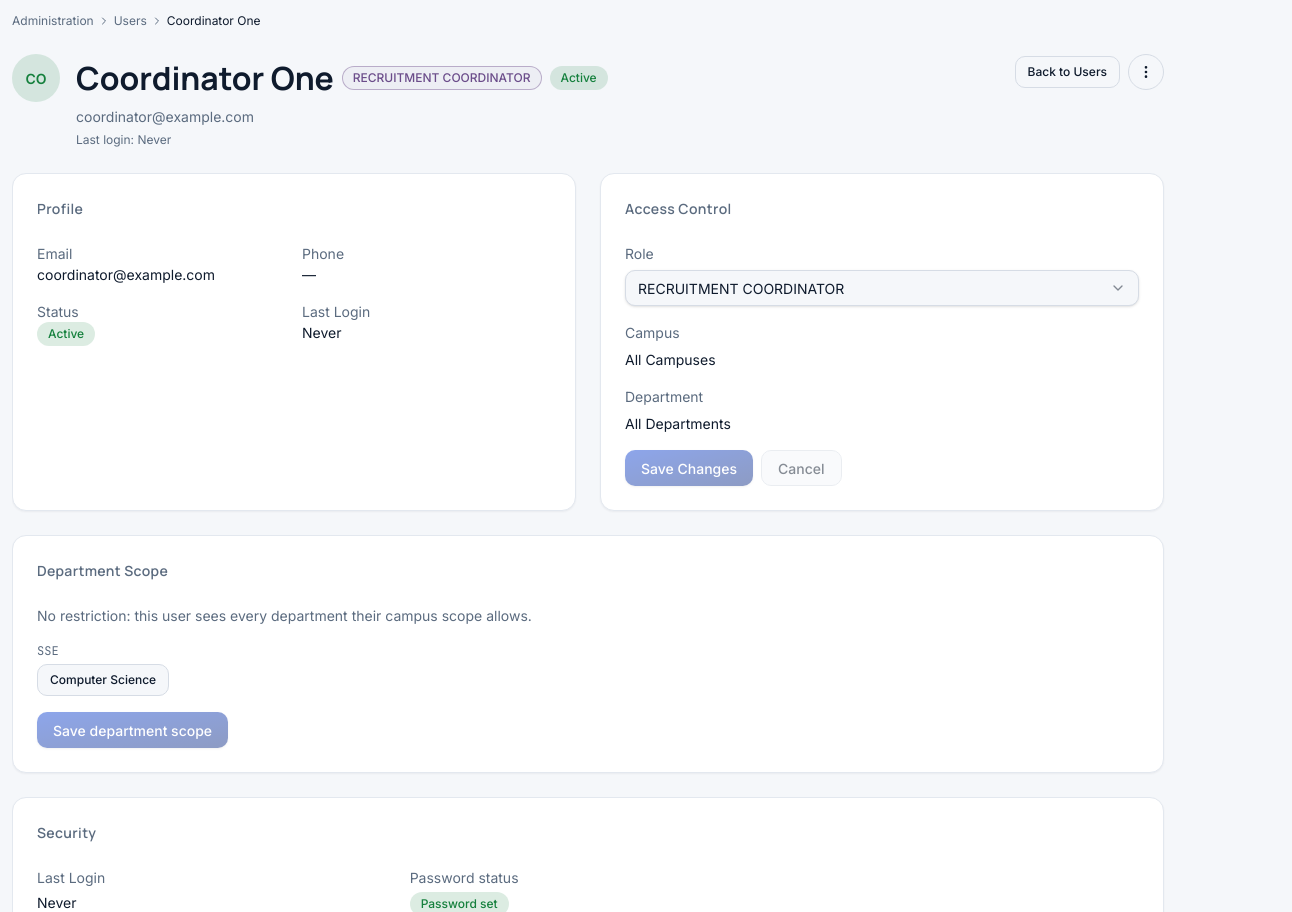
Scenario: UserDetailPage access control -- save/cancel › Cancel resets the role field back to the loaded user's value and disables Save Changes again
Step 1. Click the dropdown named "Role" → (741, 288), box x1=625 y1=270 x2=1139 y2=306
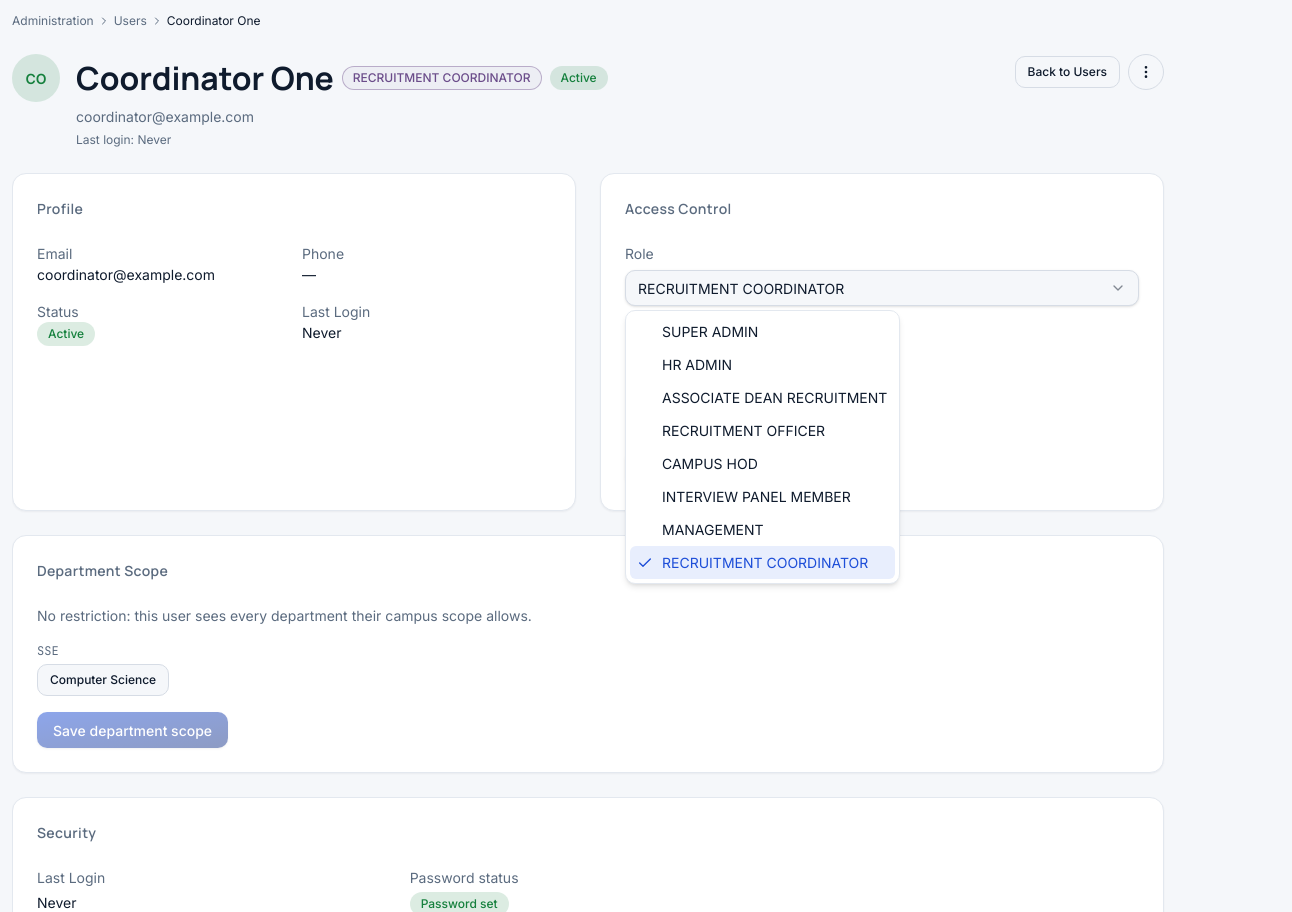
Step 2. Click the option "SUPER ADMIN" → (710, 332), box x1=662 y1=323 x2=758 y2=340
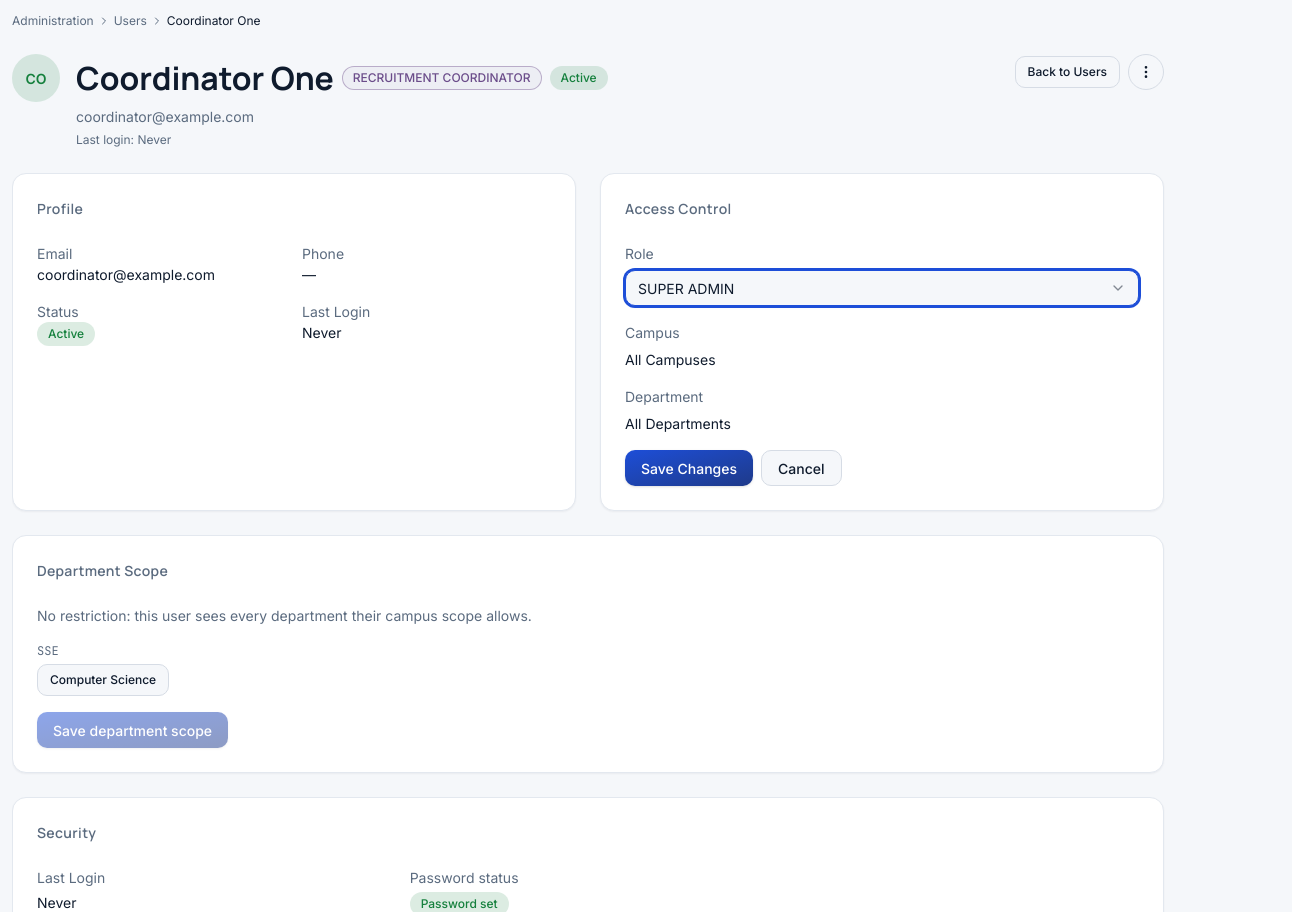
Expected: the button "Save Changes" is enabled, x1=625 y1=450 x2=753 y2=486
Step 3. Click the button "Cancel" → (801, 468), box x1=761 y1=450 x2=842 y2=486
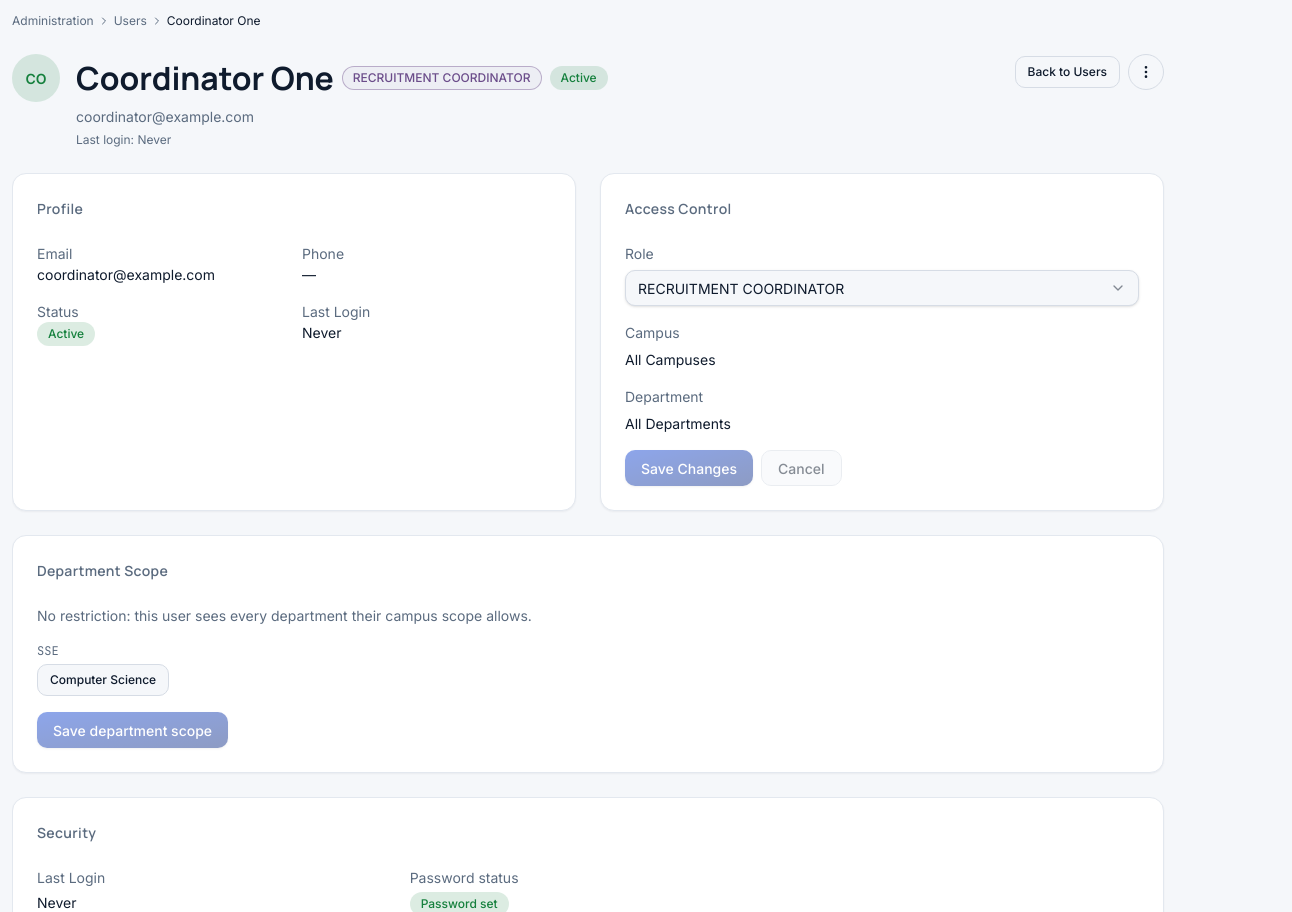
Expected: the button "Save Changes" is disabled, x1=625 y1=450 x2=753 y2=486
Expected: the dropdown named "Role" reads "RECRUITMENT COORDINATOR", x1=625 y1=270 x2=1139 y2=306
